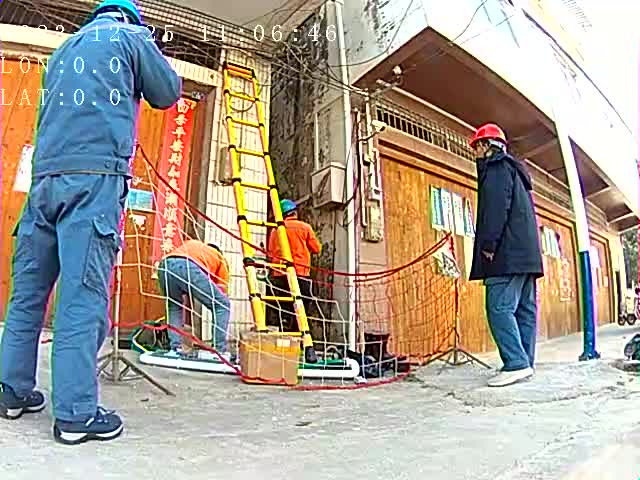halt: (94, 3, 146, 30), (471, 125, 511, 160), (282, 203, 302, 222)
